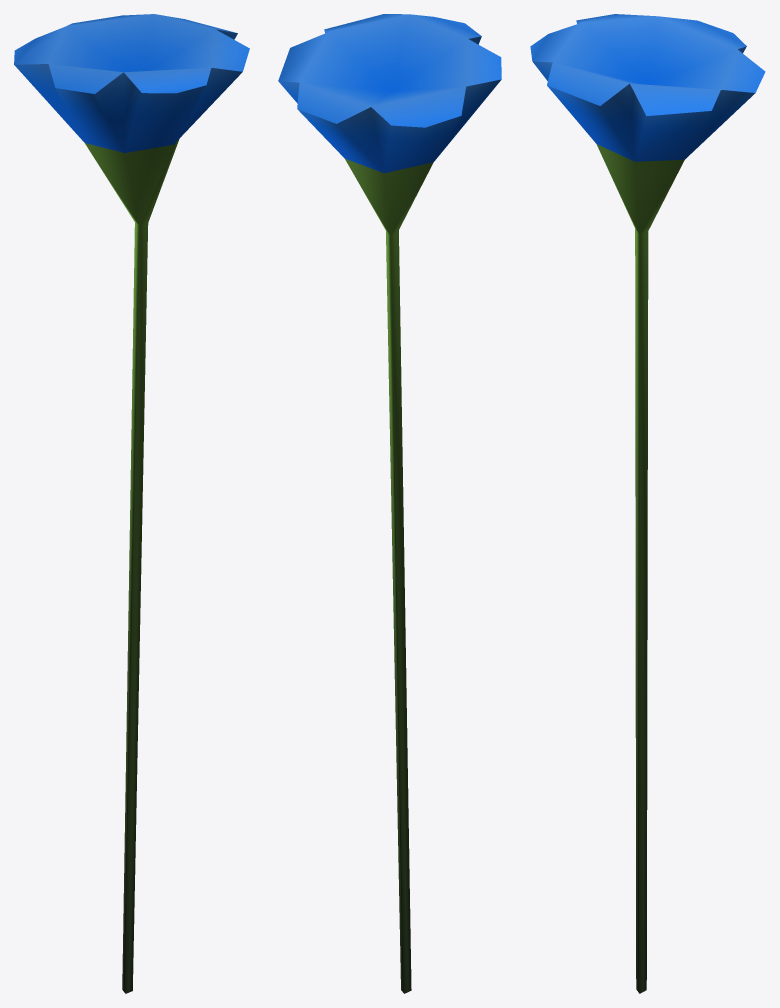
Rendered from Flower_3E.fbx.
3 renders of one model, left to right at view 1: azimuth 30°, elevation 25°; view 2: azimuth 150°, elevation 25°; view 3: azimuth 270°, elevation 25°, orthographic.
Parts seen in each view (by area): view 1: Flower_3E; view 2: Flower_3E; view 3: Flower_3E.
Part boxes in pixels (left/top/right/bottom): Flower_3E: left=14, top=14, right=249, bottom=993; Flower_3E: left=278, top=14, right=501, bottom=993; Flower_3E: left=530, top=14, right=765, bottom=993.
Size of the model in its own units: 12.56 by 57.35 by 12.84.
